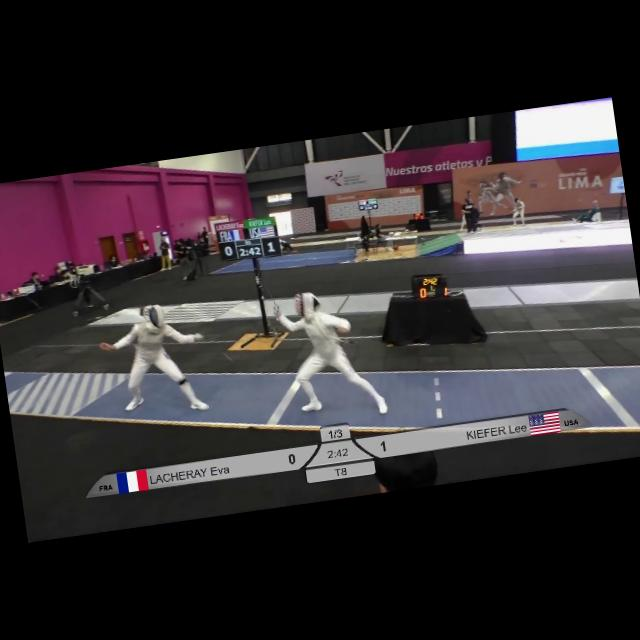blade: (252, 262, 286, 321), (194, 327, 236, 369)
